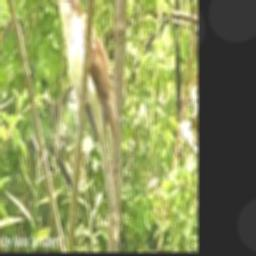Cuckoo: (51, 0, 119, 242)
